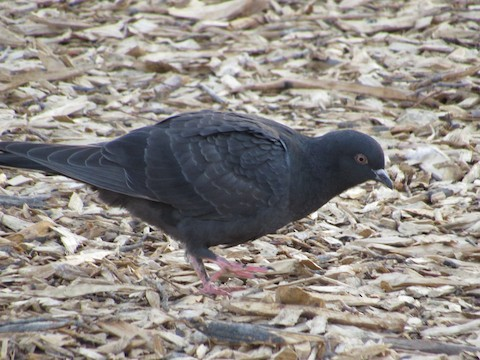pigeon: (8, 109, 404, 306)
